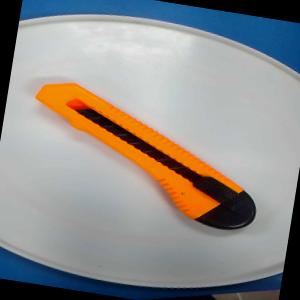estilete: (18, 76, 272, 234)
